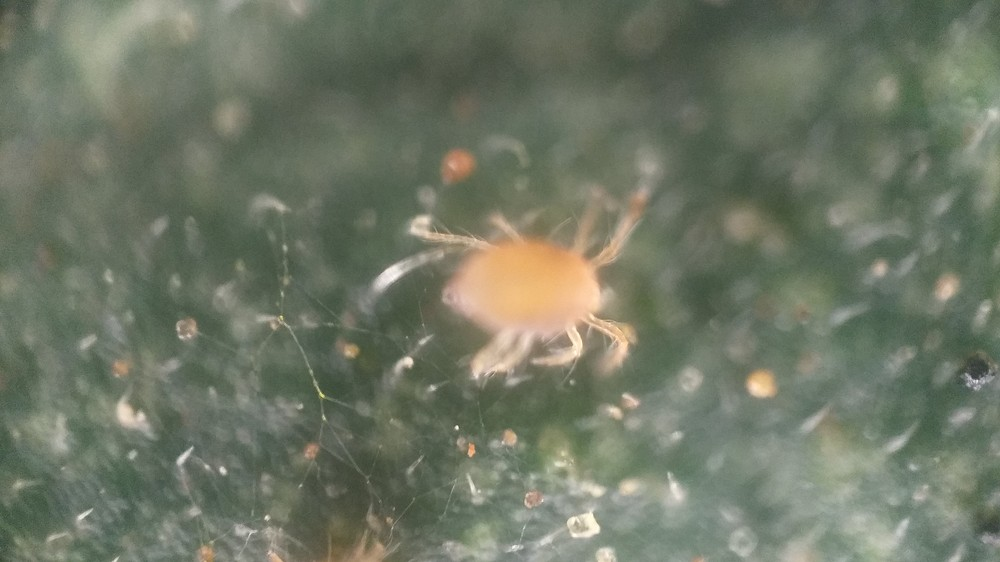Aracnido Rojo: (373, 172, 689, 416)
